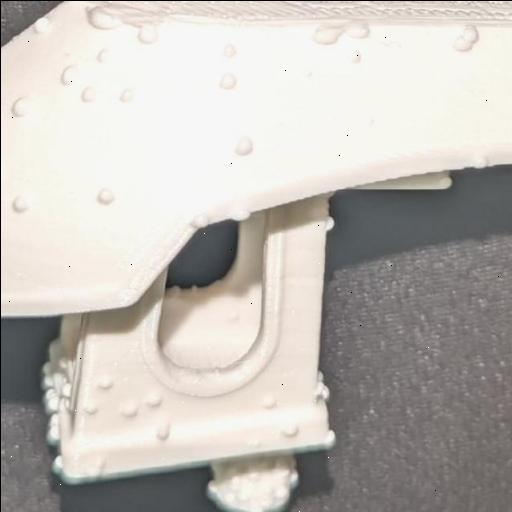blobs: (82, 2, 120, 39), (337, 16, 377, 43), (8, 90, 38, 124), (129, 20, 161, 48), (55, 62, 86, 88), (210, 70, 240, 94), (213, 41, 243, 65), (44, 414, 68, 444), (40, 385, 64, 415), (227, 138, 254, 164), (6, 194, 32, 218), (310, 26, 336, 50), (446, 36, 479, 54), (94, 372, 118, 396), (91, 186, 117, 208), (341, 46, 367, 67), (118, 402, 142, 424), (112, 85, 134, 109), (76, 84, 100, 106), (81, 396, 107, 416), (456, 22, 484, 40), (148, 424, 174, 442), (226, 208, 252, 226), (186, 212, 212, 230), (92, 44, 114, 63), (42, 454, 65, 472), (259, 396, 281, 414), (318, 212, 340, 230), (32, 16, 50, 34), (278, 423, 300, 437), (300, 66, 318, 80), (144, 395, 160, 409)
